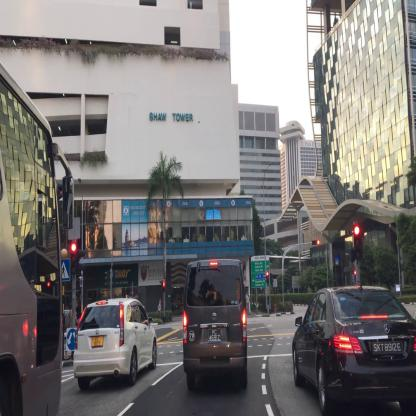red_traffic_light: (353, 226, 362, 260), (70, 243, 77, 273), (312, 240, 320, 245), (266, 271, 269, 284)
